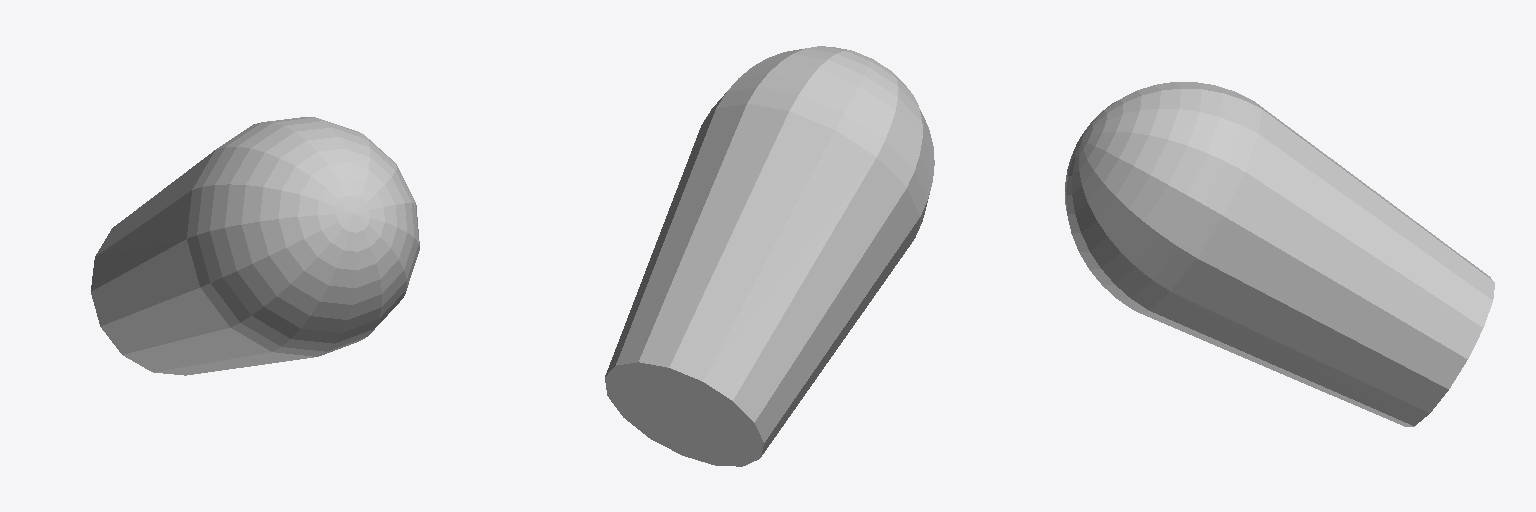
Rendered from e_teil3.obj.
3 renders of one model, left to right at view 1: azimuth 30°, elevation 25°; view 2: azimuth 150°, elevation 25°; view 3: azimuth 270°, elevation 25°, orthographic.
Size of the model in its own units: 0.4458 by 0.6647 by 0.798.